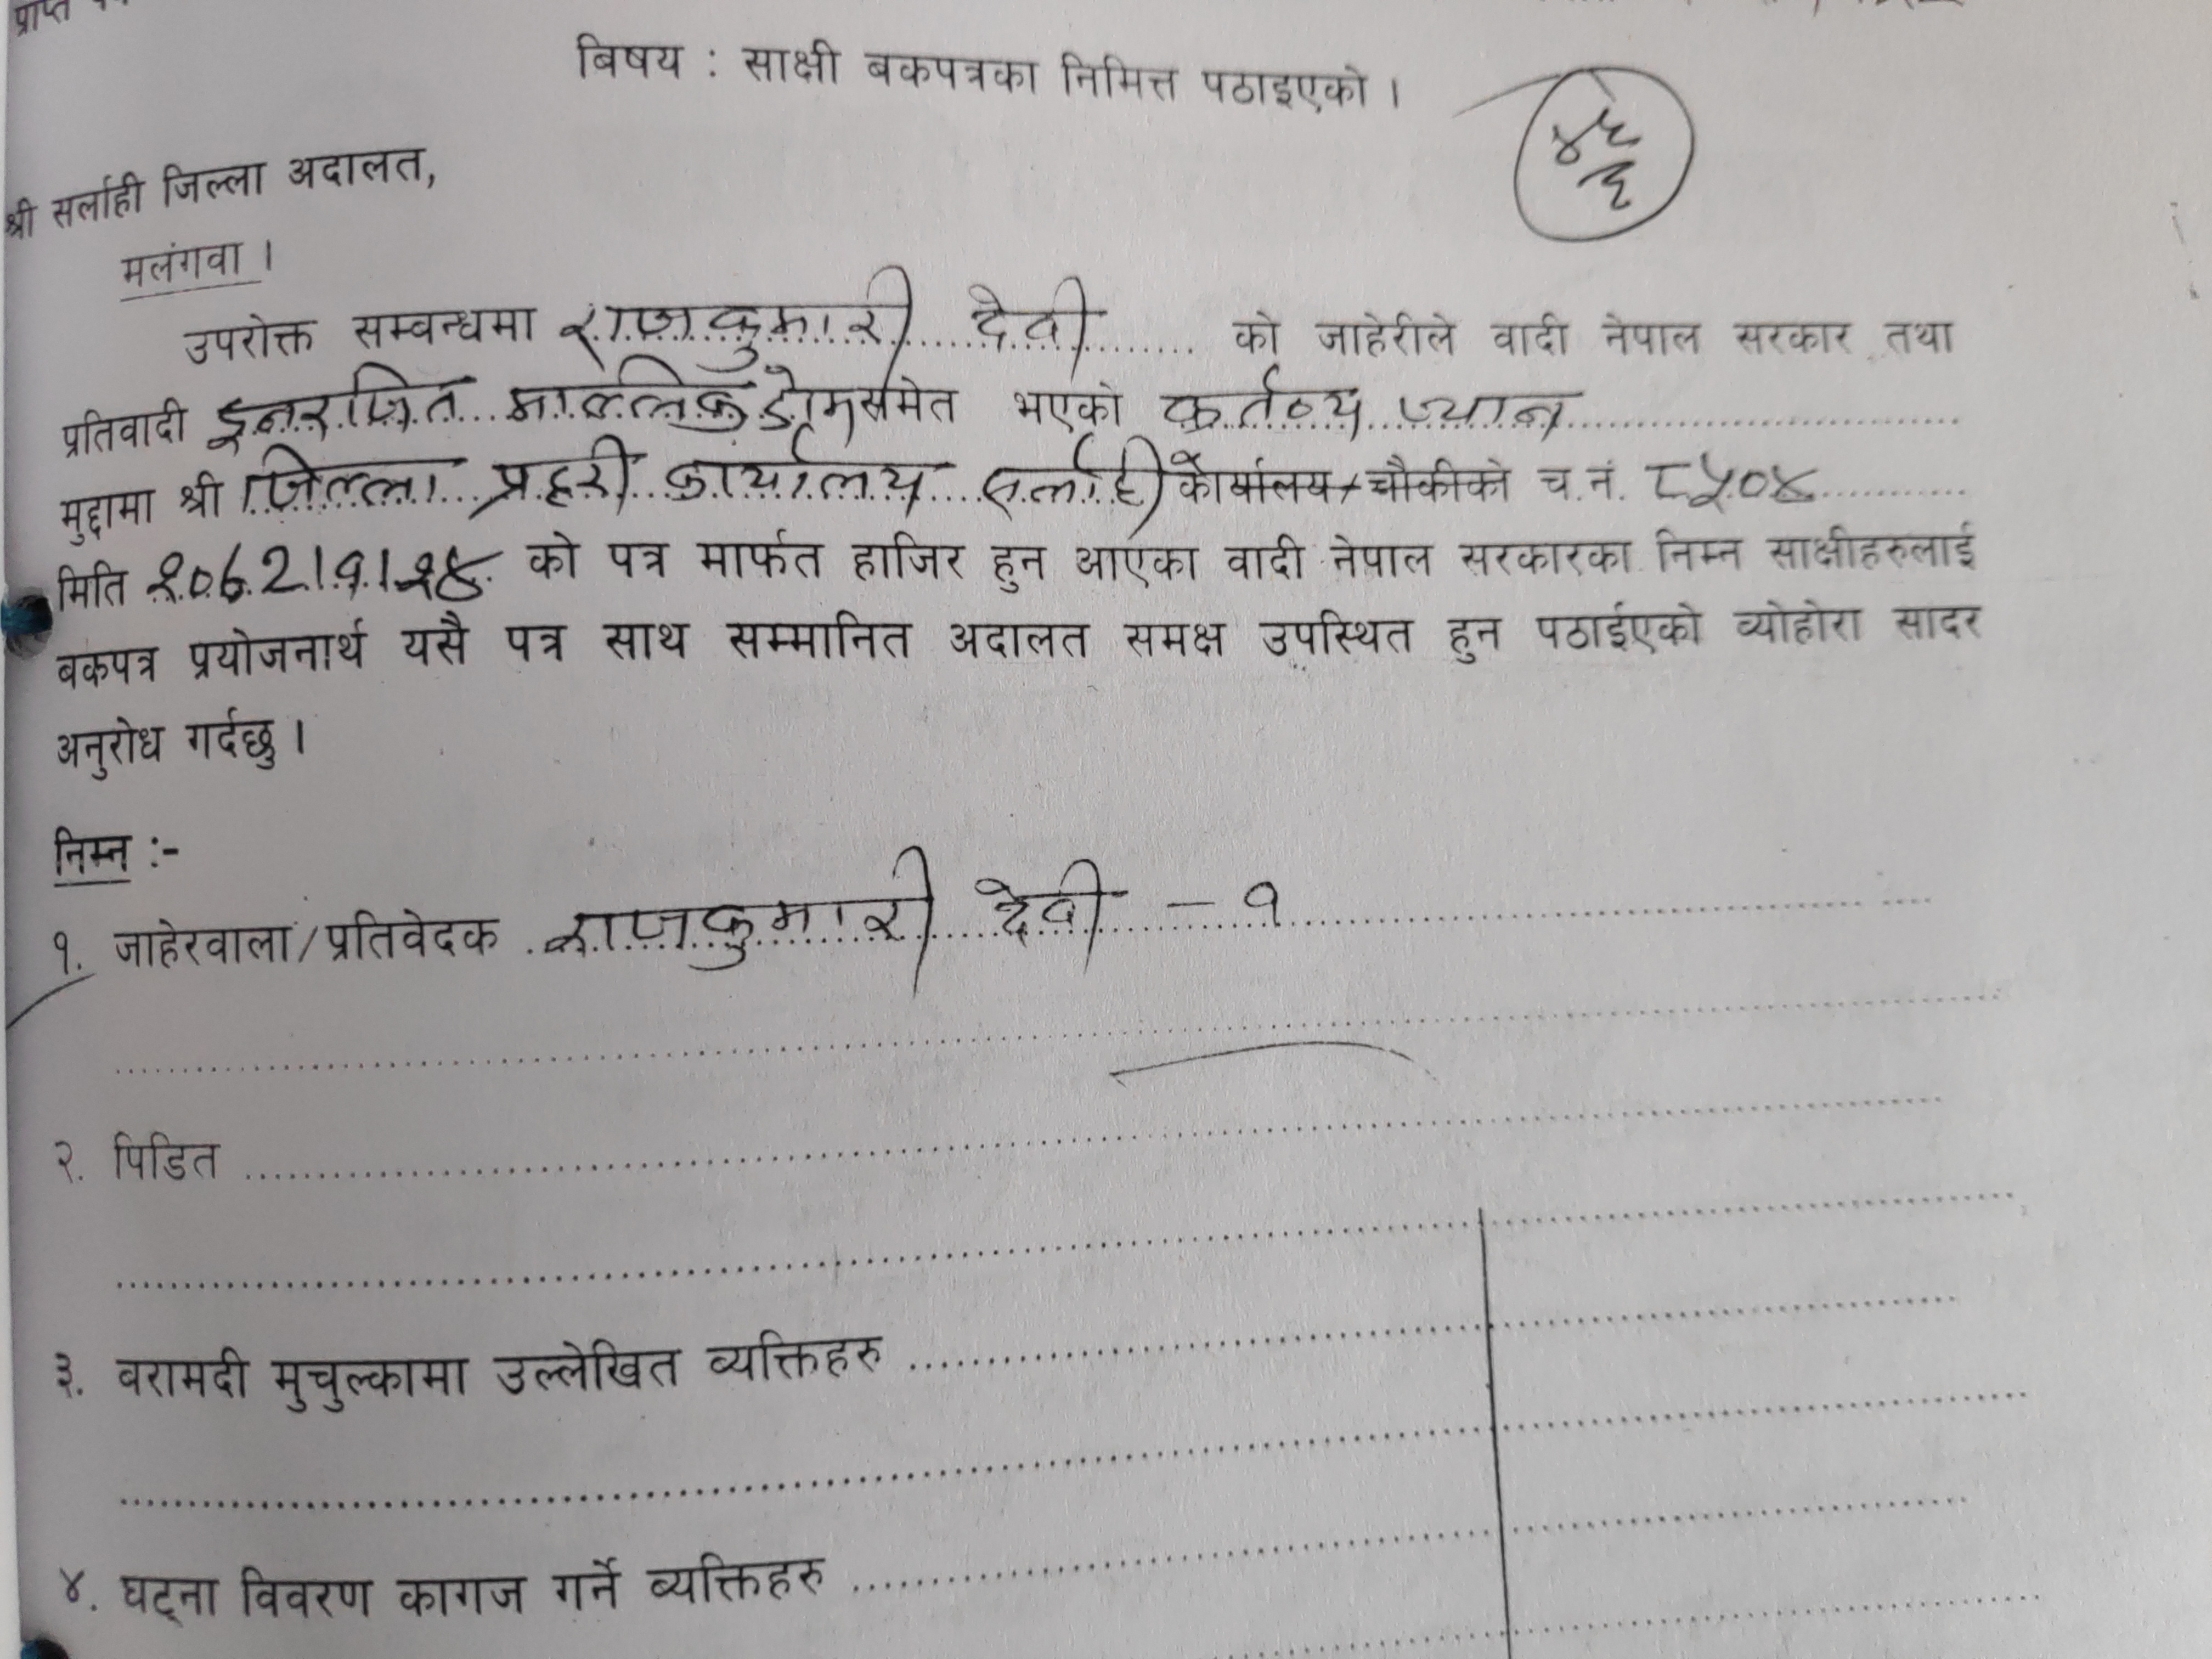text: (543, 842, 937, 990), (554, 261, 916, 359), (145, 537, 498, 606), (204, 359, 470, 448), (662, 429, 935, 509), (500, 357, 751, 439), (970, 429, 1172, 523), (974, 850, 1111, 965), (1162, 361, 1367, 434), (233, 444, 442, 516), (958, 274, 1101, 361), (1392, 382, 1583, 446), (472, 436, 636, 509), (1639, 450, 1822, 514), (752, 359, 860, 434), (1231, 871, 1289, 927)
